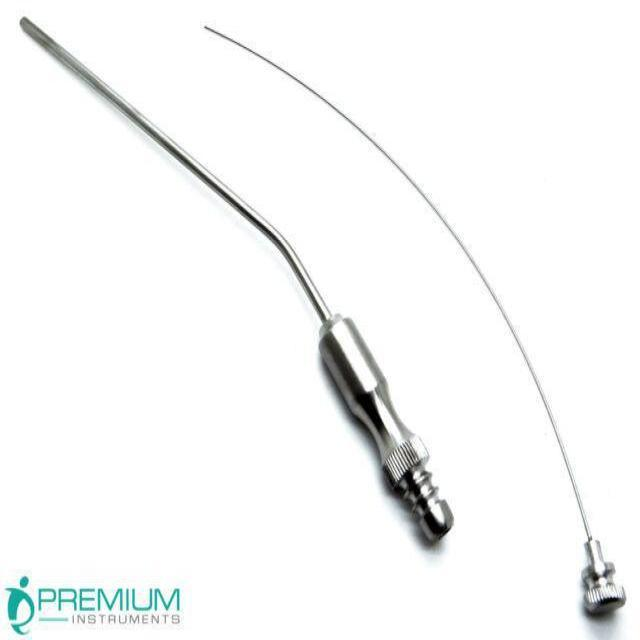Frazier: (13, 8, 456, 552)
